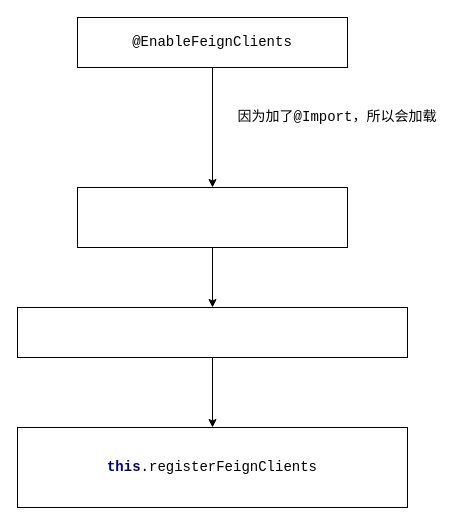
This 455x525 diagram has some shape labels left out. Each missing label, with the box of its shape:
FeignClientsRegistrar: (76, 186, 348, 248)
FeignClientsRegistrar. registerBeanDefinitions: (16, 306, 408, 358)
